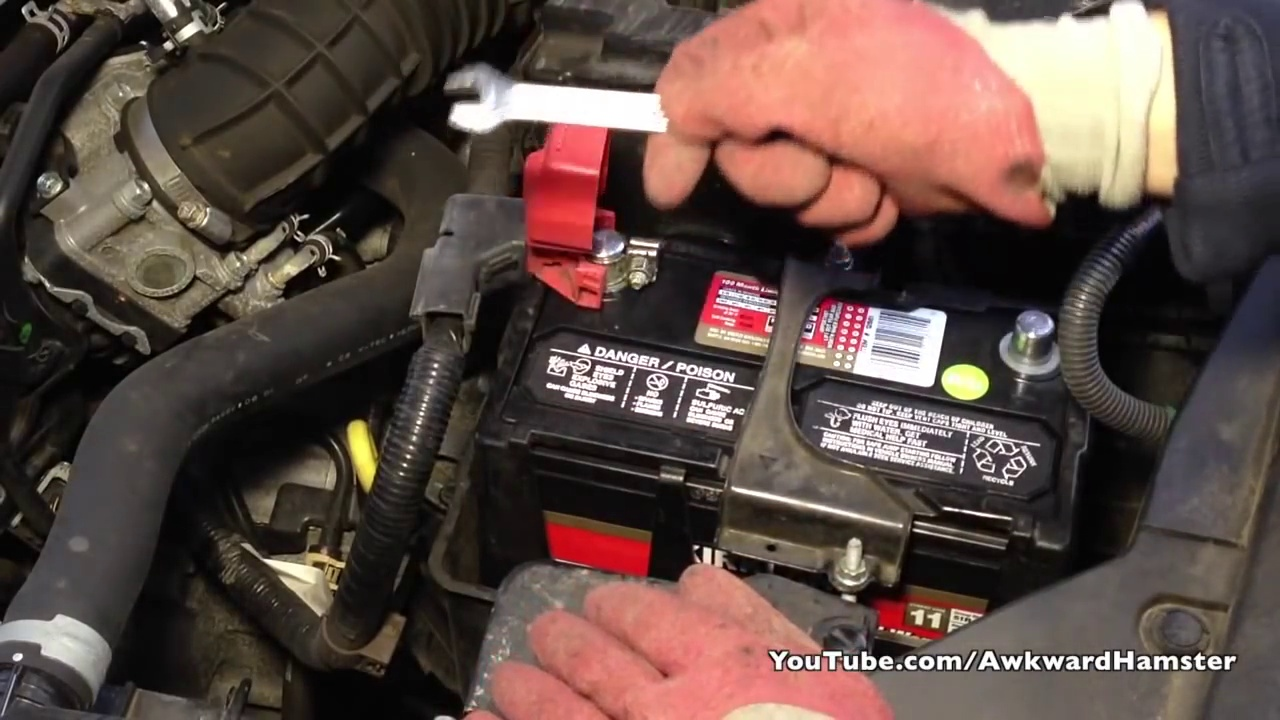battery: (493, 229, 1084, 532)
neg_disconnected: (975, 291, 1096, 396)
pos_connected: (498, 124, 655, 312)
